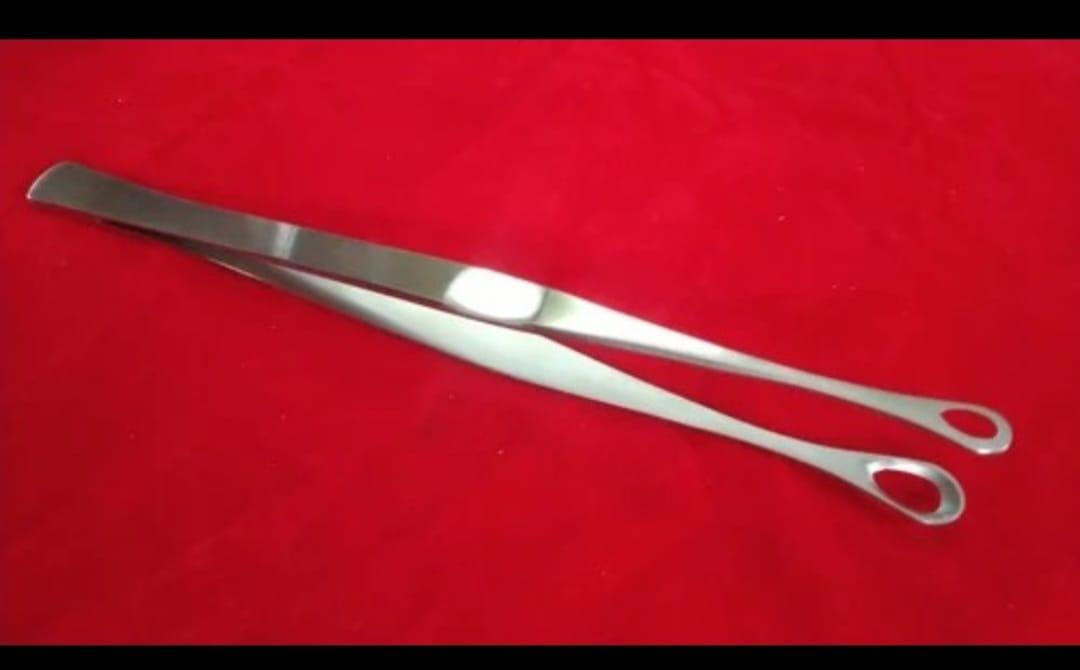Eye Intestinal Forceps: (25, 149, 1022, 546)
